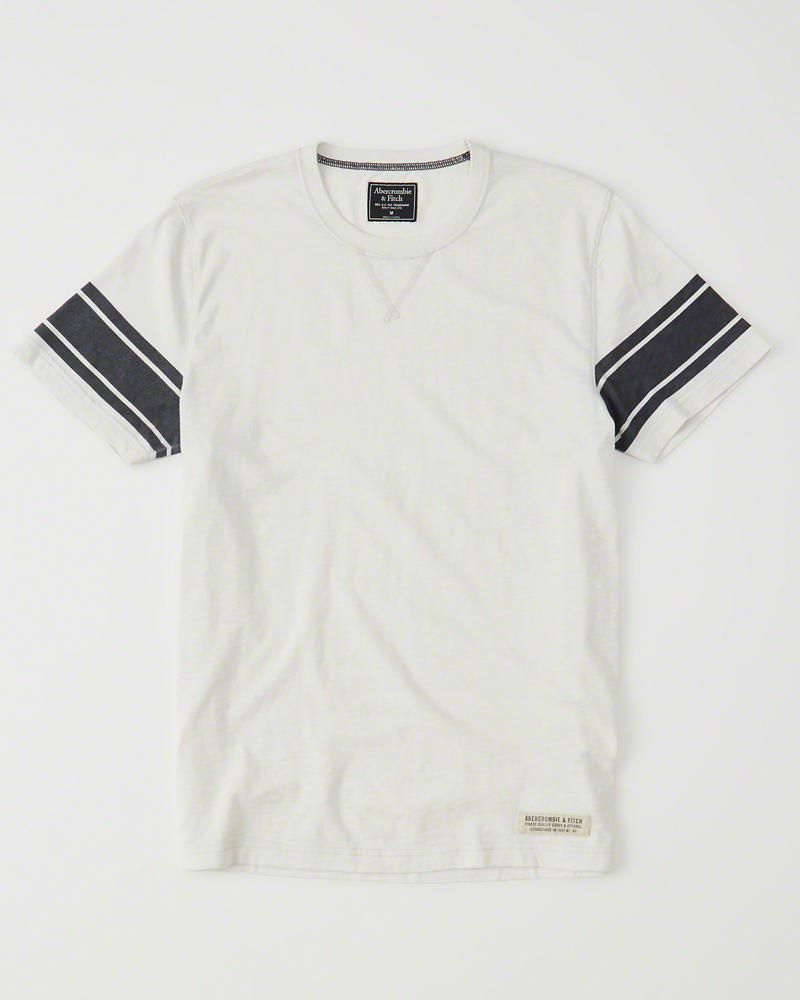teeshirt: (23, 130, 777, 916)
